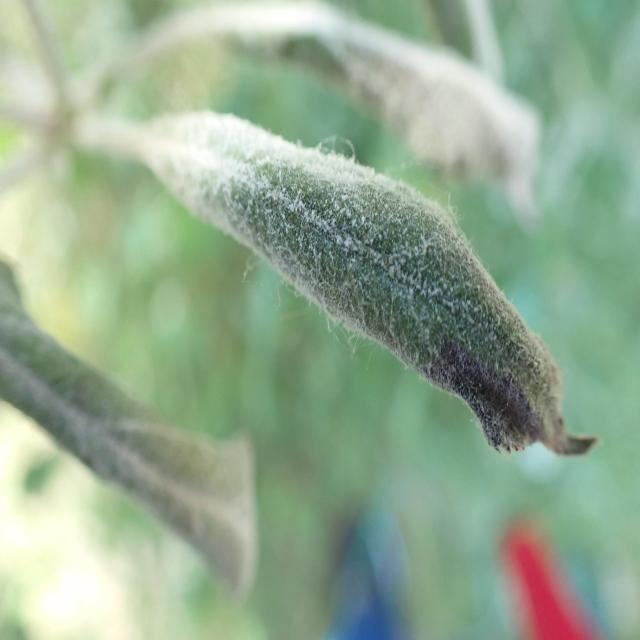Powdery_mildew: (93, 97, 608, 461)
